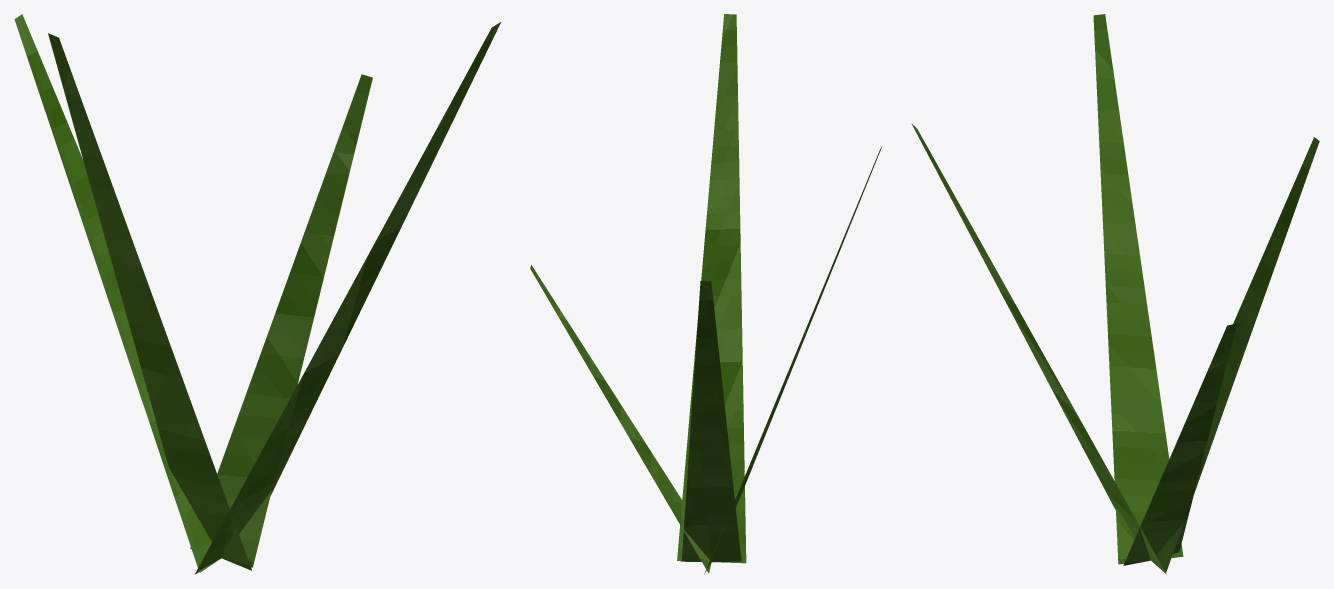
Rendered from plant_wolf01-lod2.glb.
The picture shows the model from 3 angles, left to right: view 1: azimuth 30°, elevation 25°; view 2: azimuth 150°, elevation 25°; view 3: azimuth 270°, elevation 25°; orthographic projection. The views are drawn at different scales.
Visible parts, largest first — view 1: TZ_ground_plant_Batch_00_LOD2; view 2: TZ_ground_plant_Batch_00_LOD2; view 3: TZ_ground_plant_Batch_00_LOD2.
Part boxes in pixels (left/top/right/bottom): TZ_ground_plant_Batch_00_LOD2: left=14, top=14, right=500, bottom=574; TZ_ground_plant_Batch_00_LOD2: left=530, top=14, right=882, bottom=573; TZ_ground_plant_Batch_00_LOD2: left=911, top=14, right=1319, bottom=574.
Bounding box in the file's own units: 0.5631 × 0.82 × 0.6289.
1 material, 1 textured.
